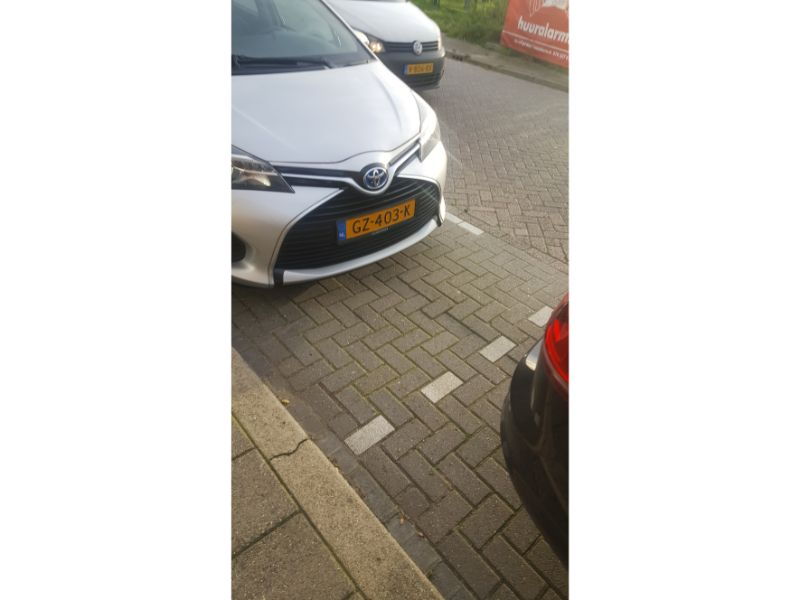kenteken: (336, 198, 416, 241)
